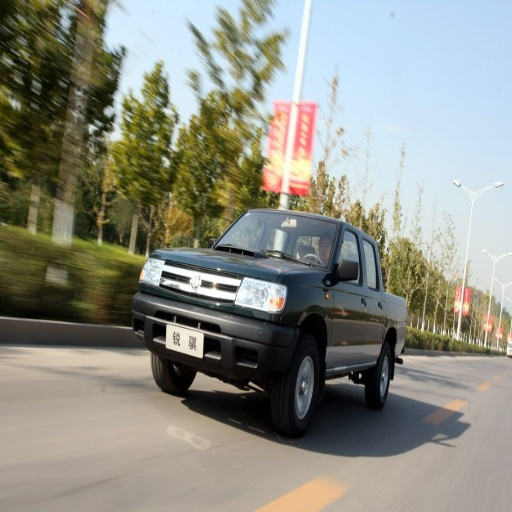front_bumper: (135, 284, 294, 385)
front_glass: (215, 211, 334, 265)
front_left_door: (330, 230, 363, 367)
